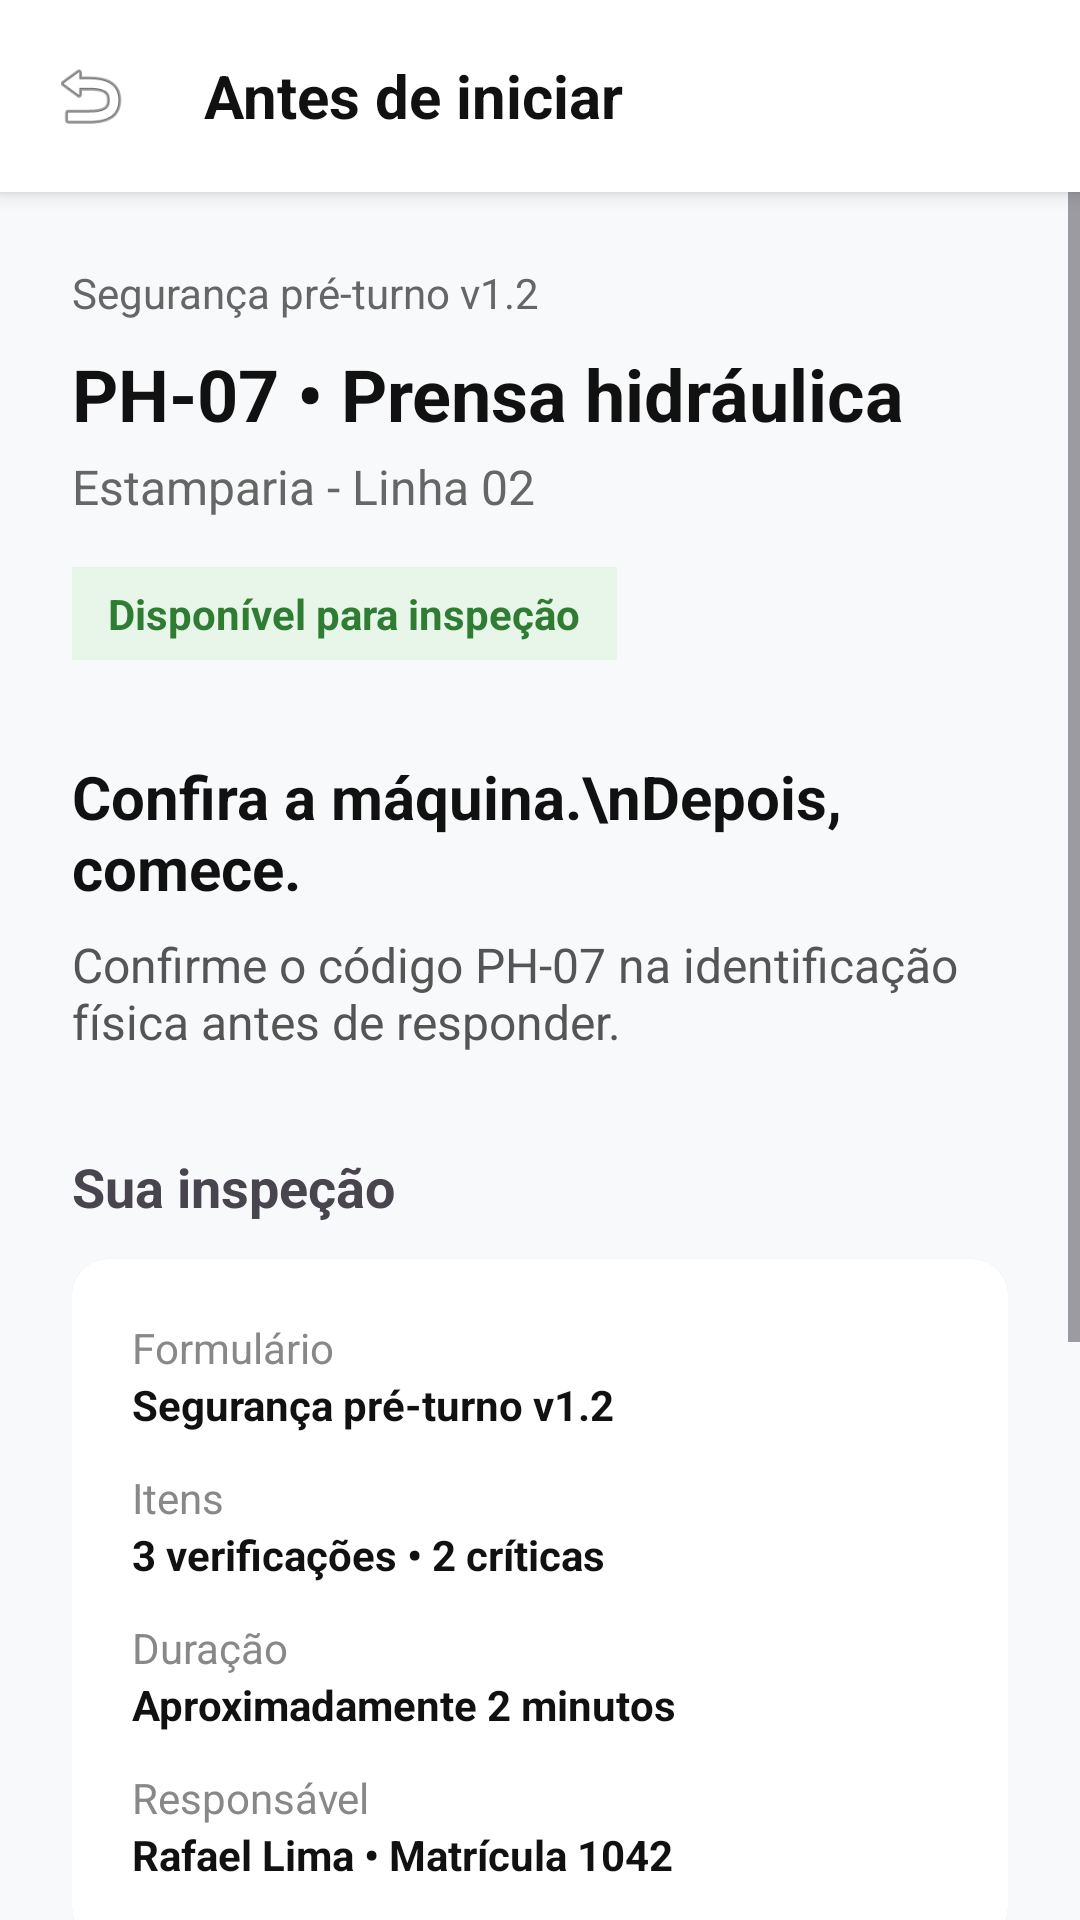

Locate icon controls on the screen. Image size 1080px×1920px, boxes as (x1, y1, x2, y2).
revert: (61, 69, 122, 124)
